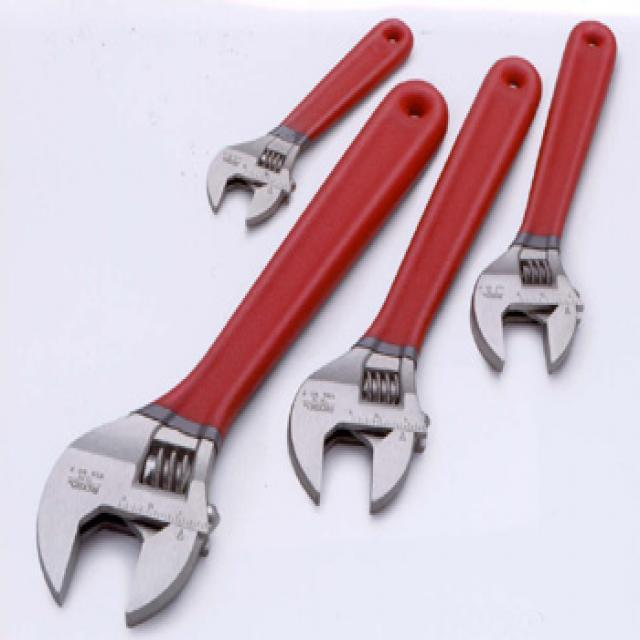wrench: (31, 76, 448, 634), (284, 47, 545, 527), (466, 14, 622, 380), (204, 0, 418, 232)
